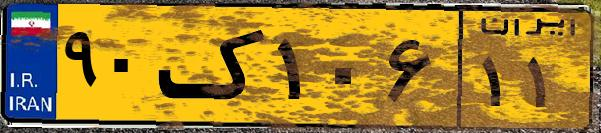0: (330, 28, 385, 110), (110, 28, 158, 98)
1: (270, 28, 330, 110), (475, 38, 525, 113), (525, 38, 570, 115)
6: (385, 28, 445, 110)
9: (57, 26, 110, 100)
ک: (158, 12, 270, 120)
